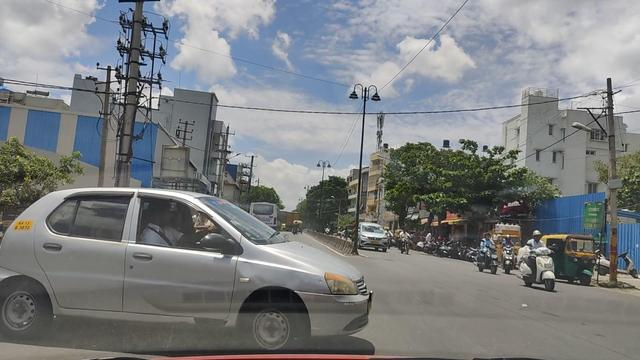LMV: (6, 184, 375, 350)
